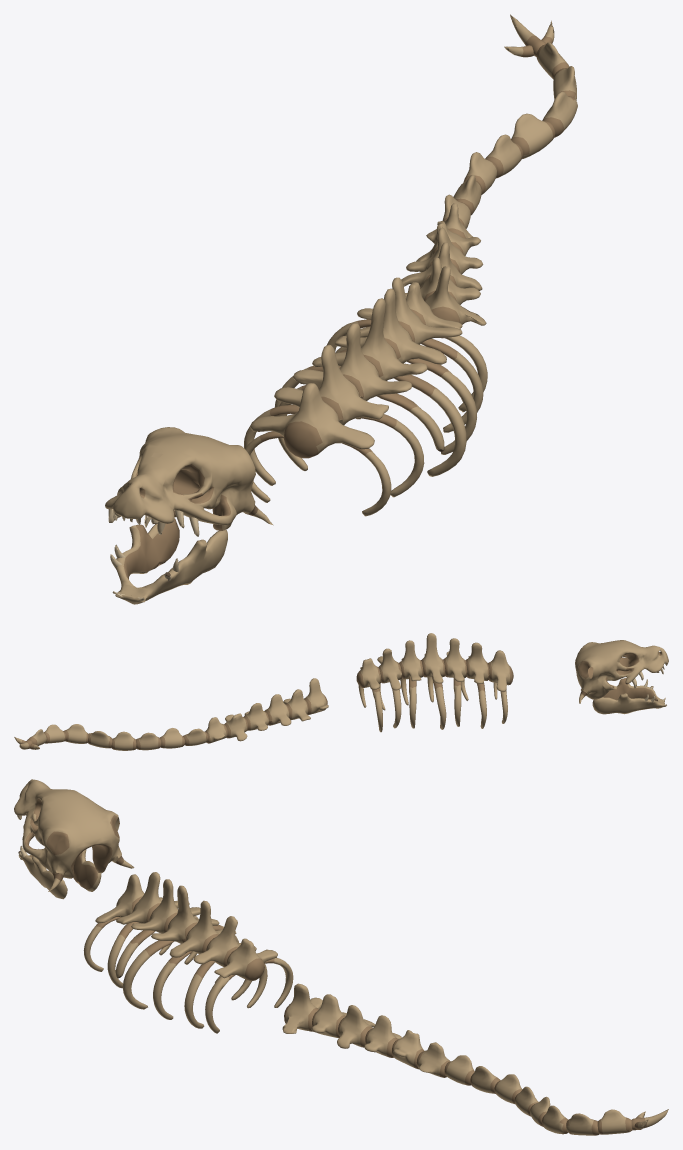
Rendered from bonesA.fbx.
The picture shows the model from 3 angles, top to bottom: view 1: azimuth 30°, elevation 25°; view 2: azimuth 150°, elevation 25°; view 3: azimuth 270°, elevation 25°; orthographic projection. The views are drawn at different scales.
Visible parts, largest first — view 1: Underworld:SM_Env_Bone_Rigcage_01, Underworld:SM_Env_Bone_Skull_01, Underworld:SM_Env_Bone_Tail_01; view 2: Underworld:SM_Env_Bone_Rigcage_01, Underworld:SM_Env_Bone_Tail_01, Underworld:SM_Env_Bone_Skull_01; view 3: Underworld:SM_Env_Bone_Rigcage_01, Underworld:SM_Env_Bone_Tail_01, Underworld:SM_Env_Bone_Skull_01.
Part boxes in pixels (x1=…): Underworld:SM_Env_Bone_Rigcage_01: x1=244, y1=277, x2=487, y2=516; Underworld:SM_Env_Bone_Skull_01: x1=105, y1=427, x2=273, y2=604; Underworld:SM_Env_Bone_Tail_01: x1=401, y1=14, x2=577, y2=338; Underworld:SM_Env_Bone_Rigcage_01: x1=356, y1=633, x2=513, y2=732; Underworld:SM_Env_Bone_Tail_01: x1=14, y1=678, x2=328, y2=750; Underworld:SM_Env_Bone_Skull_01: x1=575, y1=640, x2=668, y2=714; Underworld:SM_Env_Bone_Rigcage_01: x1=83, y1=872, x2=293, y2=1033; Underworld:SM_Env_Bone_Tail_01: x1=282, y1=983, x2=668, y2=1135; Underworld:SM_Env_Bone_Skull_01: x1=14, y1=779, x2=134, y2=899.
Bounding box in the file's own units: 2136 × 383 × 1975.
Materials: 1 (1 with a texture image).
